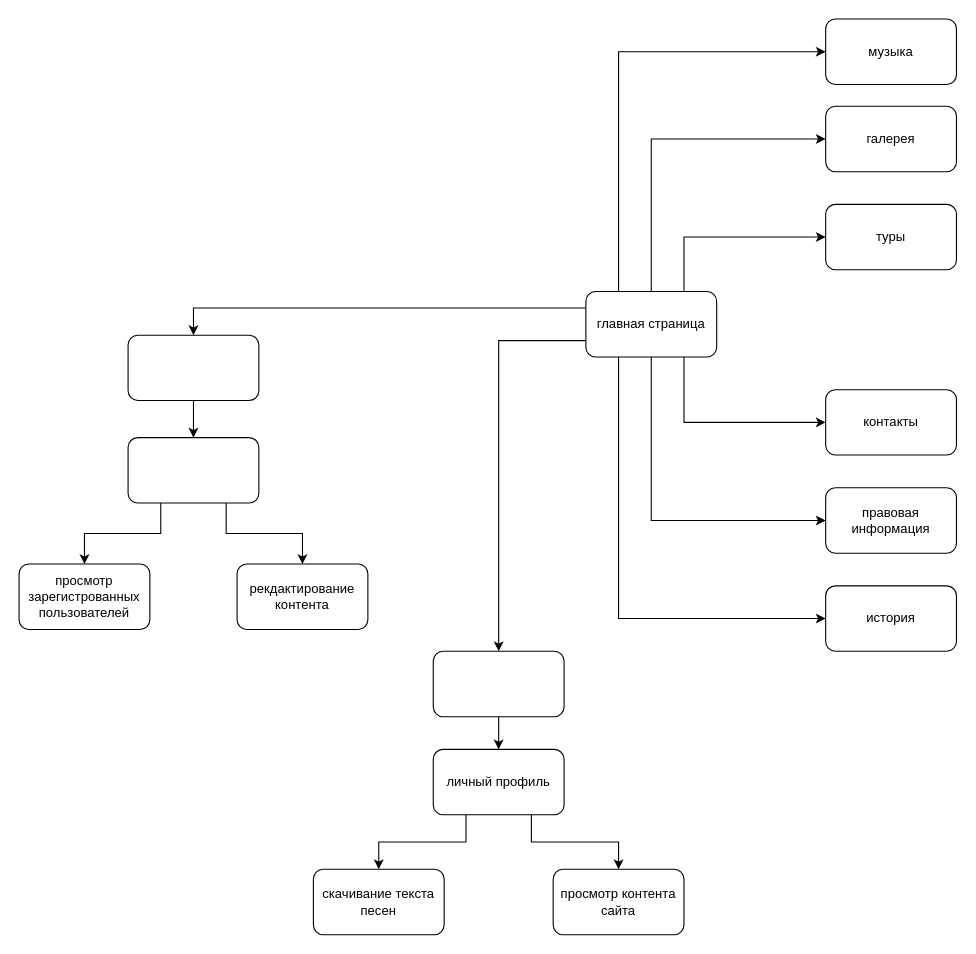
The diagram is 976 pixels wide and 954 high, and some of its shapes have lost their labels. Each missing label, with the centre of its shape:
"авторизация" belongs at pixel 193 367.
"админ панель" belongs at pixel 193 470.
"регистрация" belongs at pixel 498 683.
